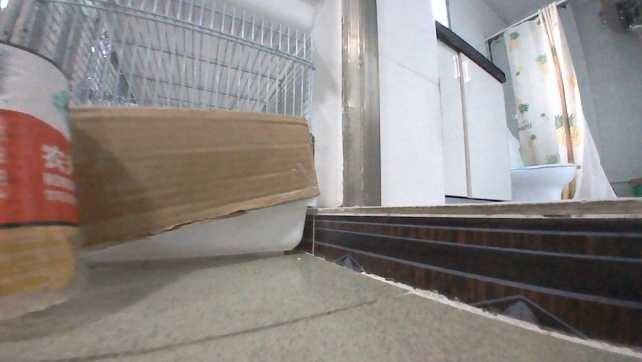toilet: (507, 130, 579, 204)
